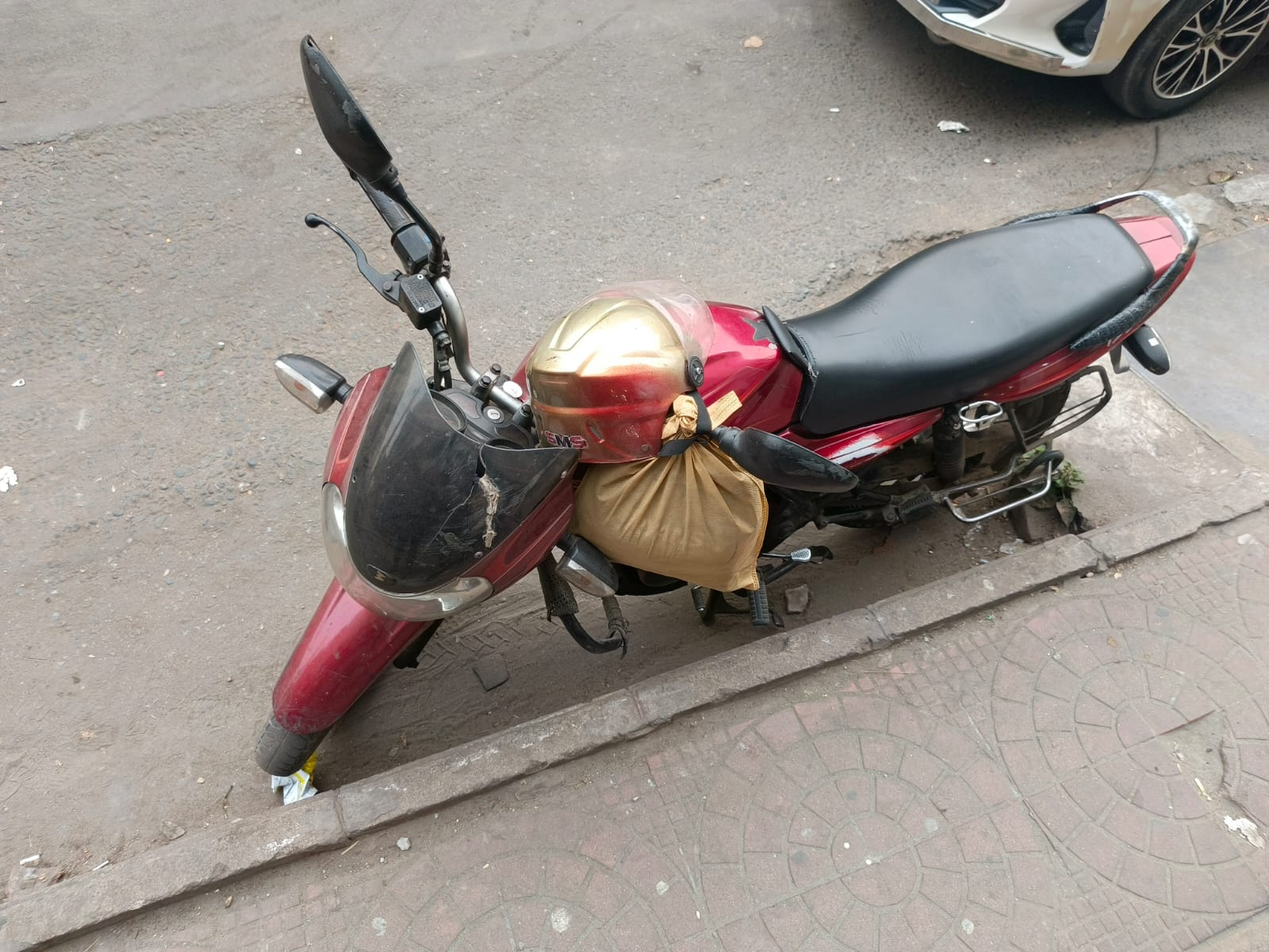Bikes: (241, 22, 1211, 805)
